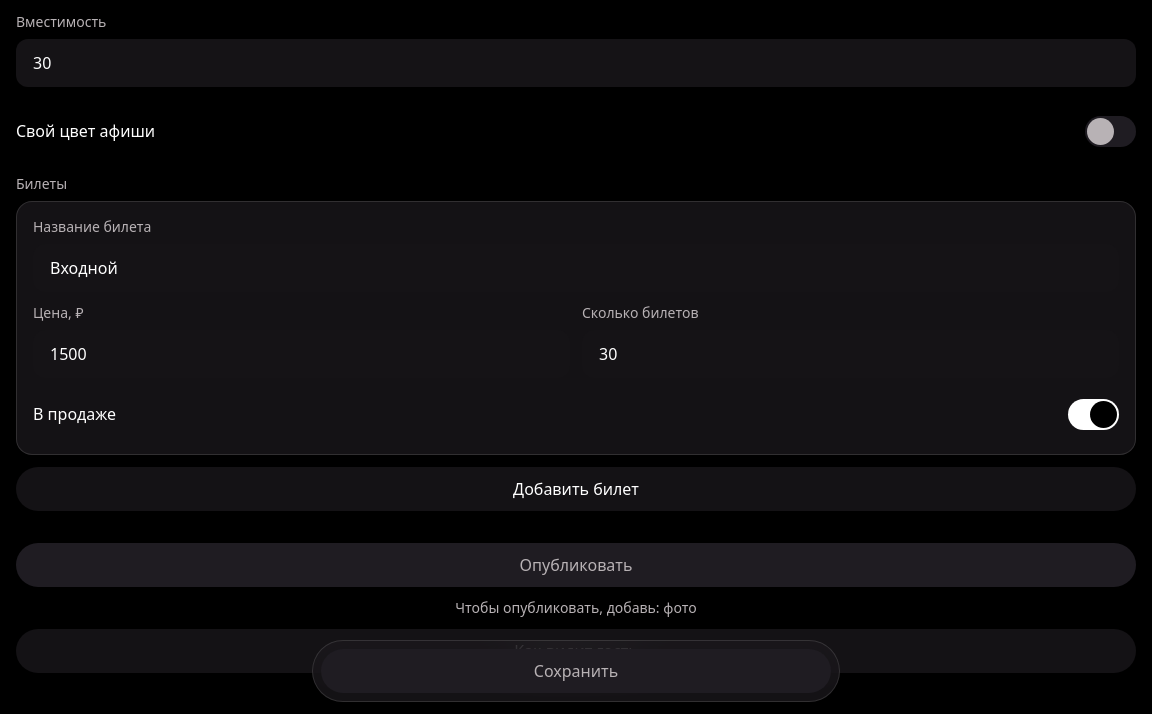
Test: OwnerEventForm › checks prices before sending
(page scrolled)
Replace the text in the field named "Цена билета 1, ₽" with "дорого" at (302, 354), box [33, 330, 570, 378]
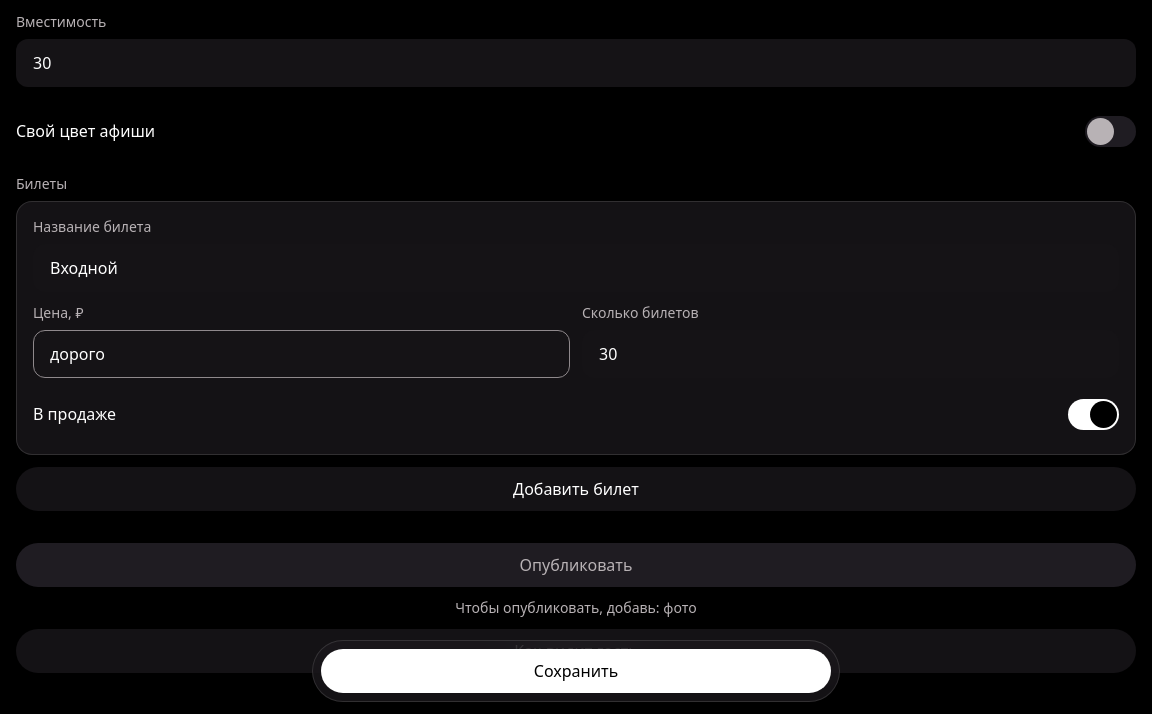
Click the button "Сохранить".
click(576, 671)  # box [321, 649, 831, 693]
(page scrolled)
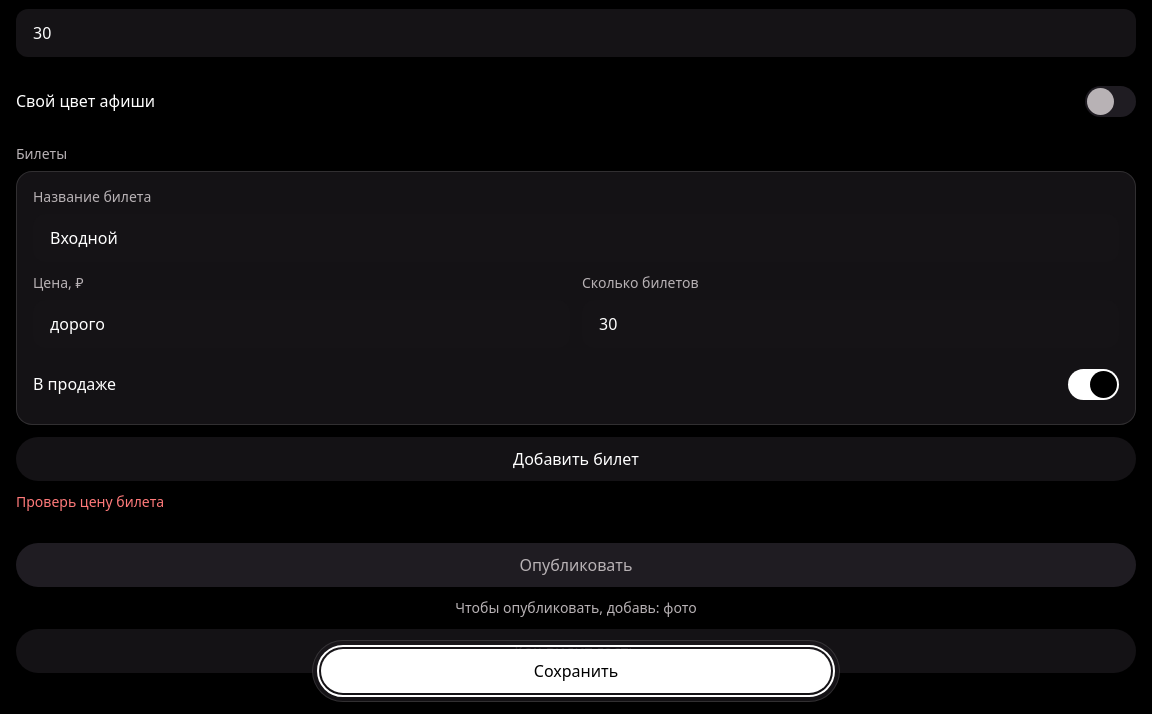
Expected: the text "Проверь цену билета" is shown, [16, 492, 164, 511]
